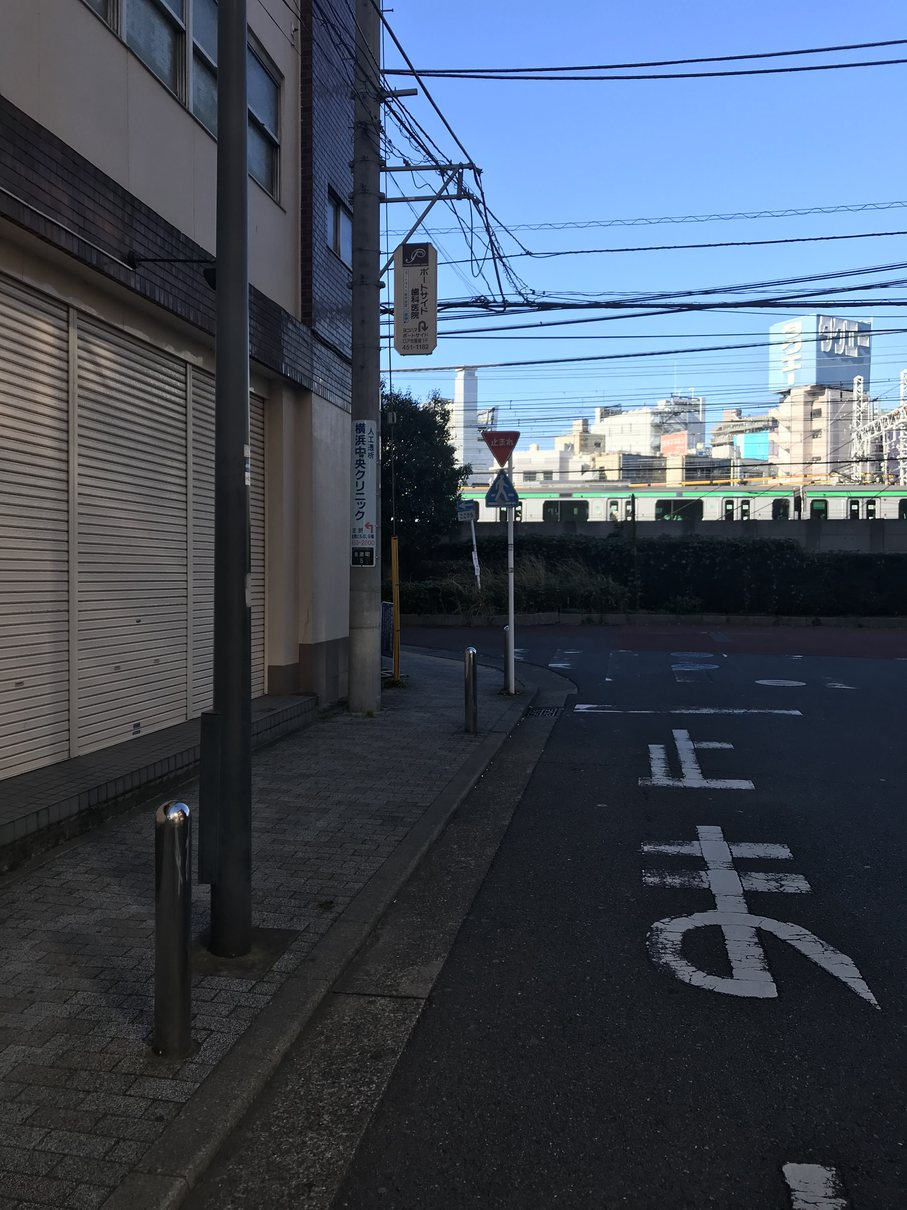stop_sign: (478, 429, 521, 468)
